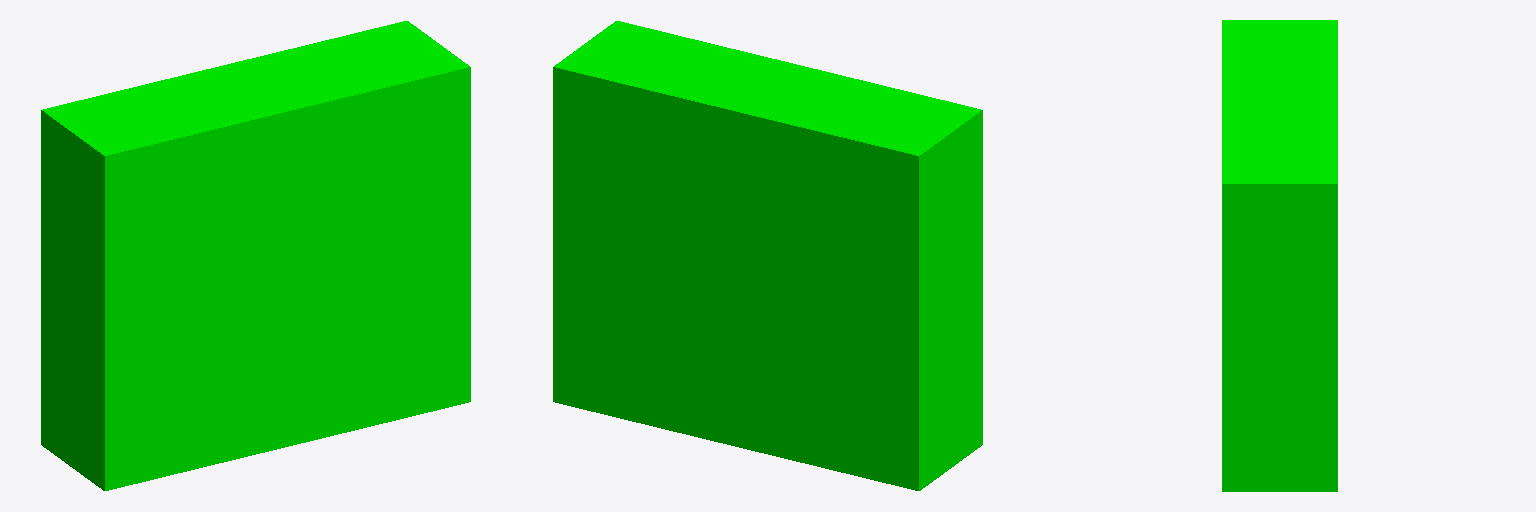
The robot description file, URDF, robot "obstacle":
<?xml version="1.0"?>
<robot name="obstacle">

  <link name="box">
    <inertial>
      <origin xyz="0 0 0" rpy="0 0 0"/>
      <mass value="0.0612"/>
      <inertia ixx="9.634e-06" ixy="0" ixz="0" iyy="1.275e-05" iyz="0" izz="6.064e-06"/>
    </inertial>

    <collision name="collision">
      <origin xyz="0 0 0" rpy="0 0 0"/>
      <geometry>
        <box size="0.4 0.12 0.35"/>
      </geometry>
    </collision>

    <visual name="visual">
      <origin xyz="0 0 0" rpy="0 0 0"/>
      <geometry>
        <box size="0.4 0.12 0.35"/>
      </geometry>
      <material name="green">
        <color rgba="0 1 0 1"/>
      </material>
    </visual>
  </link>

  <gazebo reference="box">
    <kp>50000</kp>
    <kd>15.0</kd>
    <mu1>30</mu1>
    <mu2>30</mu2>
    <restitution_coefficient>0.5</restitution_coefficient>
    <material>Gazebo/Green</material>
  </gazebo>

</robot>

--- Render facts (derived) ---
Views: 3 orthographic renders of the robot side by side, from view 1: azimuth 30°, elevation 25°; view 2: azimuth 150°, elevation 25°; view 3: azimuth 270°, elevation 25°.
Robot: obstacle — 1 links, 0 joints (none); root link box; default pose: every joint at zero.
Visible links, largest first — view 1: box; view 2: box; view 3: box.
Boxes of the visible links, bbox=[...] form: box: bbox=[41, 21, 470, 490]; box: bbox=[553, 21, 982, 490]; box: bbox=[1222, 20, 1337, 491].
Size in the robot's own frame: 0.4 by 0.12 by 0.35 metres.
Geometry: primitives only (box / cylinder / sphere), no mesh files.
